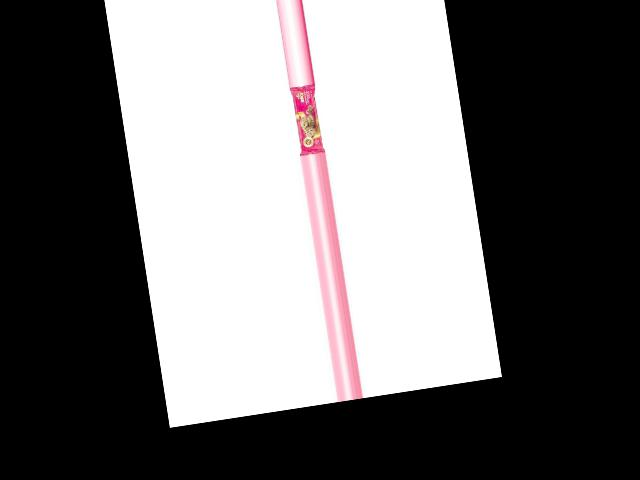chocolate: (290, 82, 327, 154)
